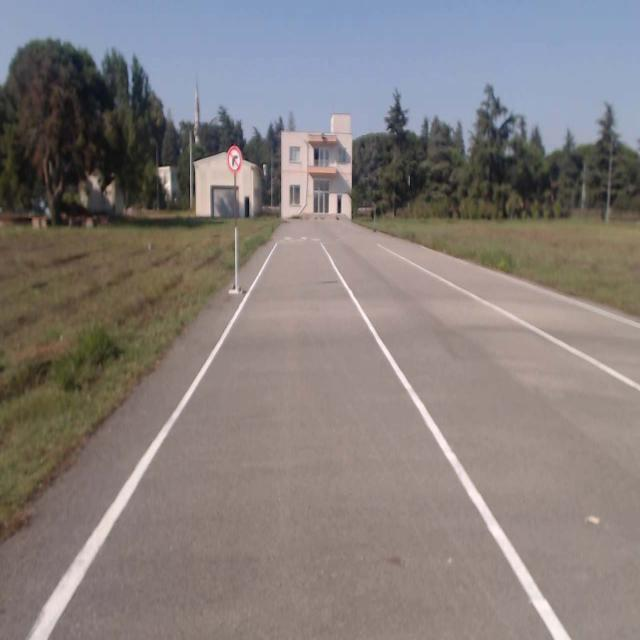sagadonulmez: (228, 146, 242, 173)
